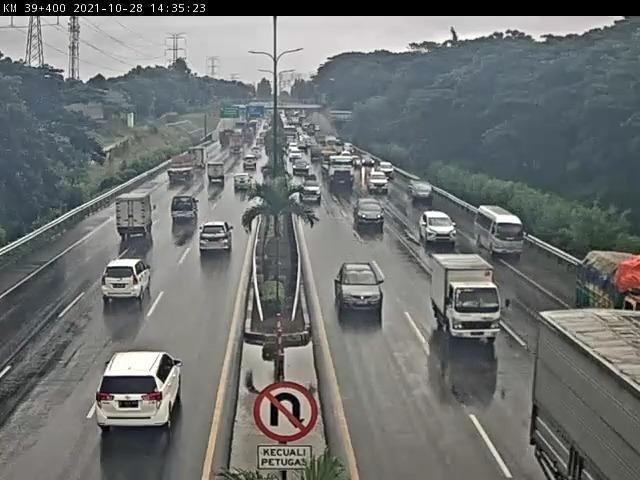bus: (477, 208, 529, 259)
car: (75, 343, 192, 447), (107, 195, 156, 248), (339, 266, 384, 321), (164, 191, 203, 232), (195, 219, 235, 256), (417, 207, 458, 243), (295, 171, 328, 203), (353, 200, 387, 231), (370, 166, 396, 197), (408, 182, 439, 205), (201, 162, 227, 189), (231, 177, 256, 202), (243, 158, 259, 176)
truck: (533, 304, 640, 480), (430, 256, 505, 342), (90, 256, 161, 318), (577, 247, 640, 312), (322, 159, 357, 197), (163, 153, 196, 190)
